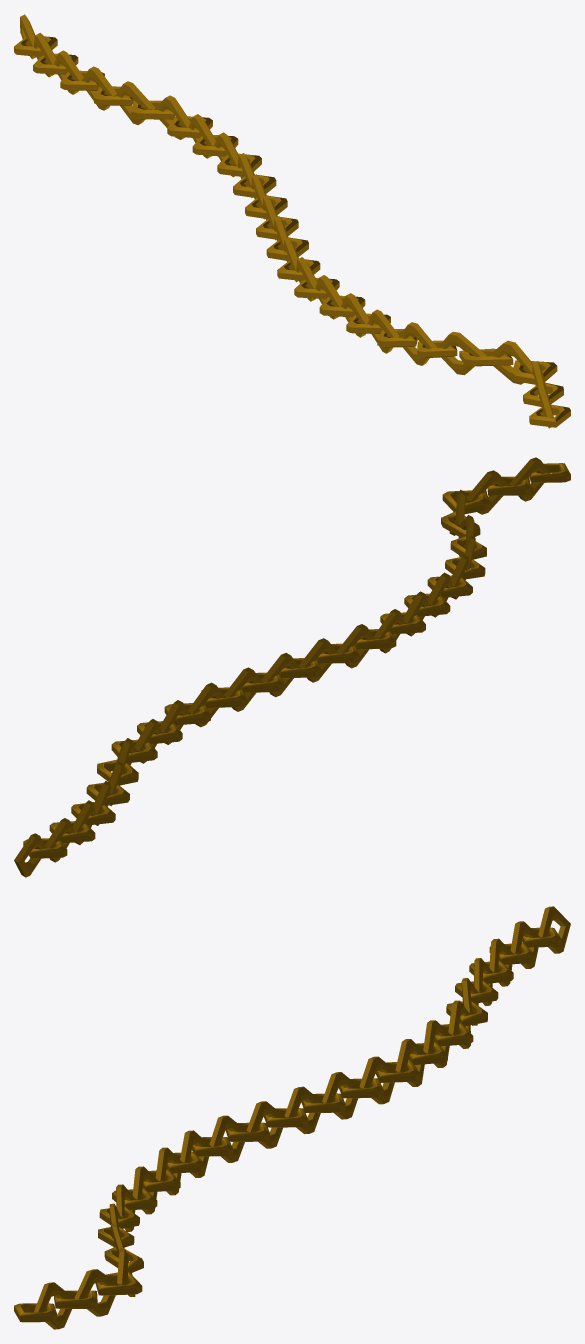
The model's file is Cadenas en s.fbx.
The picture shows the model from 3 angles, top to bottom: view 1: azimuth 30°, elevation 25°; view 2: azimuth 150°, elevation 25°; view 3: azimuth 330°, elevation 25°; orthographic projection.
Parts seen in each view (by area): view 1: Cadenas10; view 2: Cadenas10; view 3: Cadenas10.
Part boxes in pixels (x1,y1,x2,y2): Cadenas10: (14, 14, 570, 428); Cadenas10: (14, 457, 570, 877); Cadenas10: (14, 906, 570, 1329).
Bounding box in the file's own units: 5.8 × 2.02 × 45.12.
